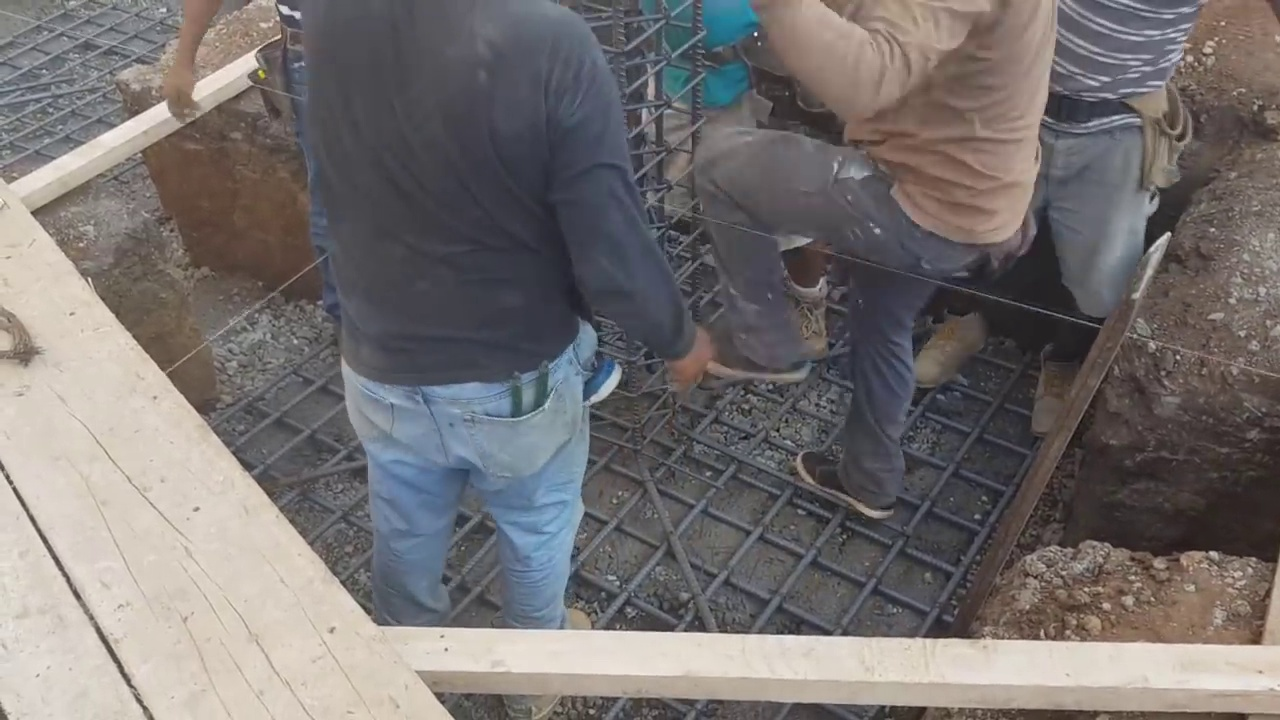person: (296, 0, 705, 683), (705, 0, 1042, 526), (1034, 0, 1207, 438), (650, 0, 766, 250)
